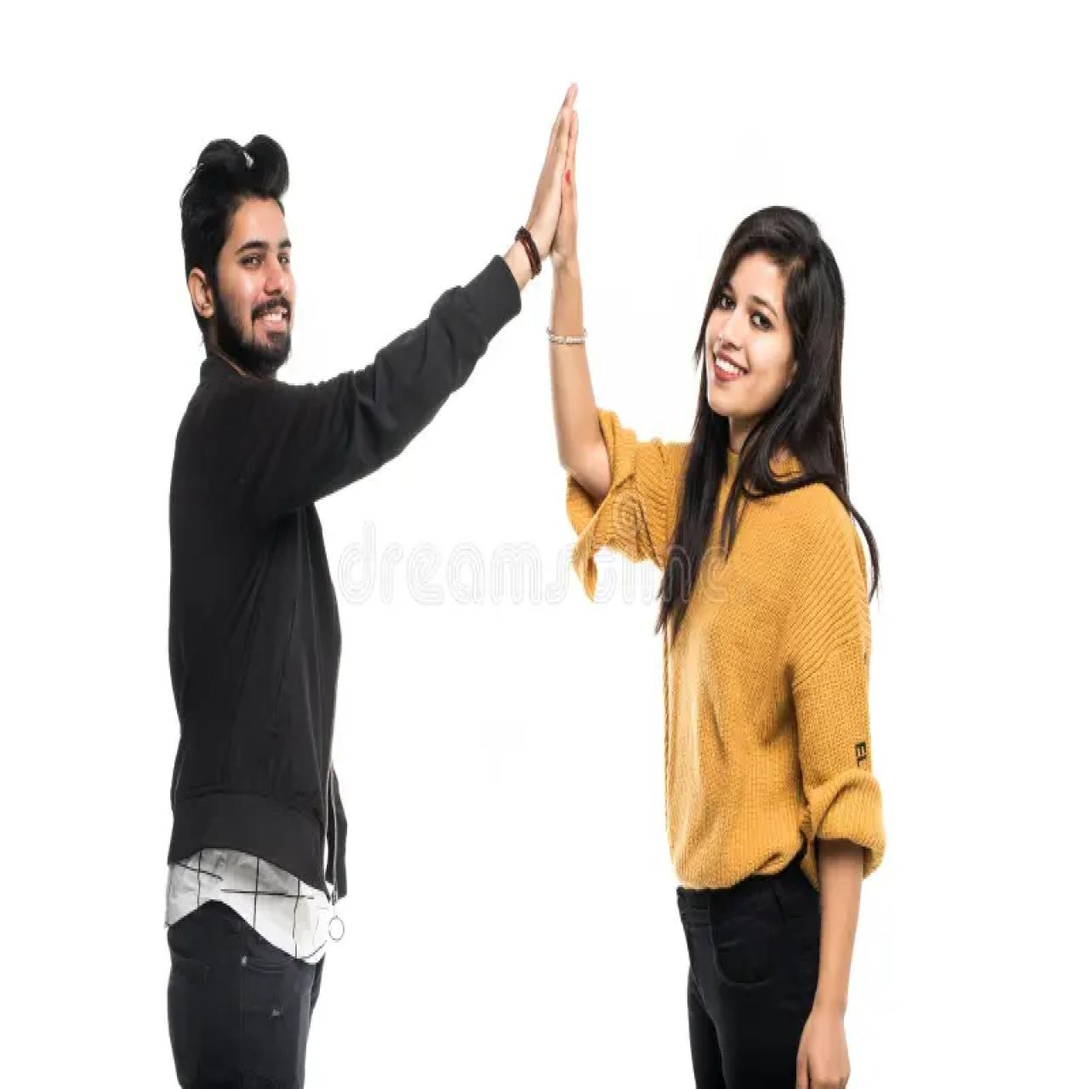NO_Safety_Vest: (664, 453, 877, 920), (165, 364, 345, 885)
Person: (141, 82, 570, 1089), (547, 118, 898, 1089)
